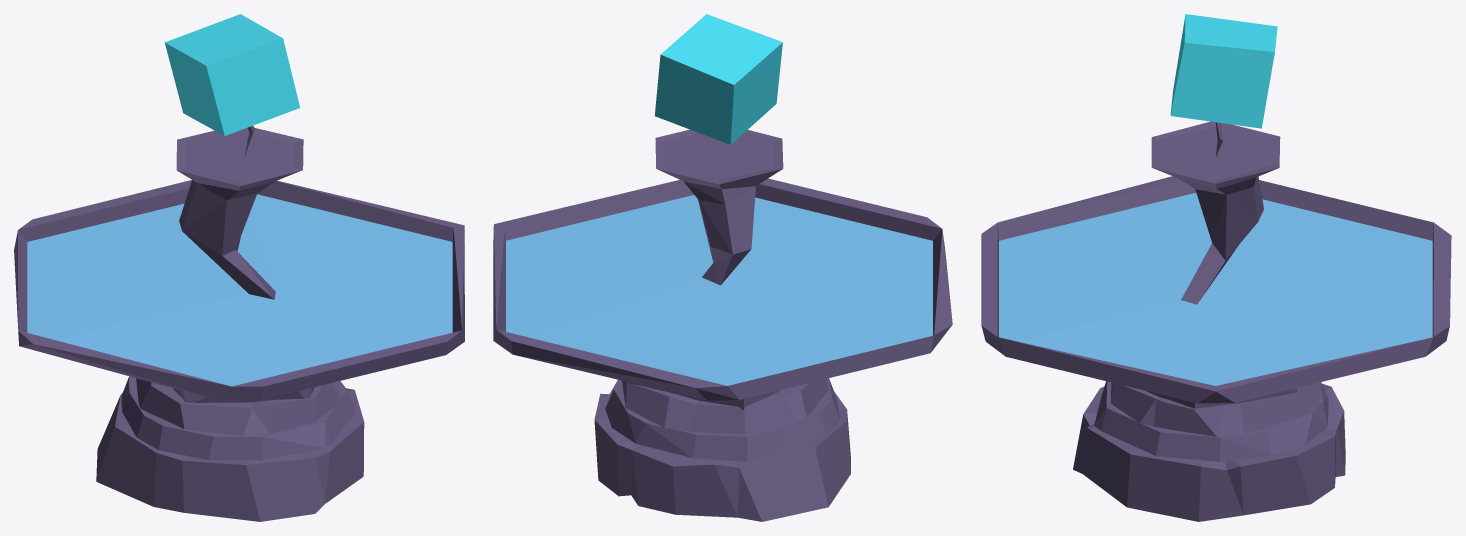
The model's file is ENV_Fountain1_Placeholder2.fbx.
The picture shows the model from 3 angles, left to right: view 1: azimuth 30°, elevation 25°; view 2: azimuth 150°, elevation 25°; view 3: azimuth 270°, elevation 25°; orthographic projection.
Parts seen in each view (by area): view 1: Cube.006; view 2: Cube.006; view 3: Cube.006.
Boxes of the visible parts, bbox=[...] form: Cube.006: bbox=[14, 14, 464, 521]; Cube.006: bbox=[493, 14, 952, 521]; Cube.006: bbox=[981, 14, 1451, 521].
Bounding box in the file's own units: 493 × 549 × 509.
